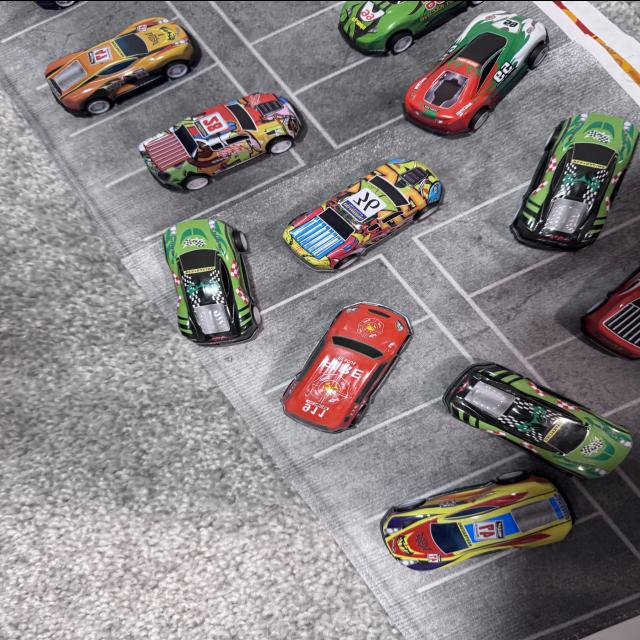Car: (440, 336, 640, 507), (217, 156, 452, 298), (380, 1, 574, 142), (354, 470, 543, 586), (142, 86, 338, 196), (492, 103, 640, 230), (281, 322, 405, 455), (52, 26, 210, 111), (147, 216, 250, 346), (522, 276, 640, 358), (292, 0, 477, 51)
